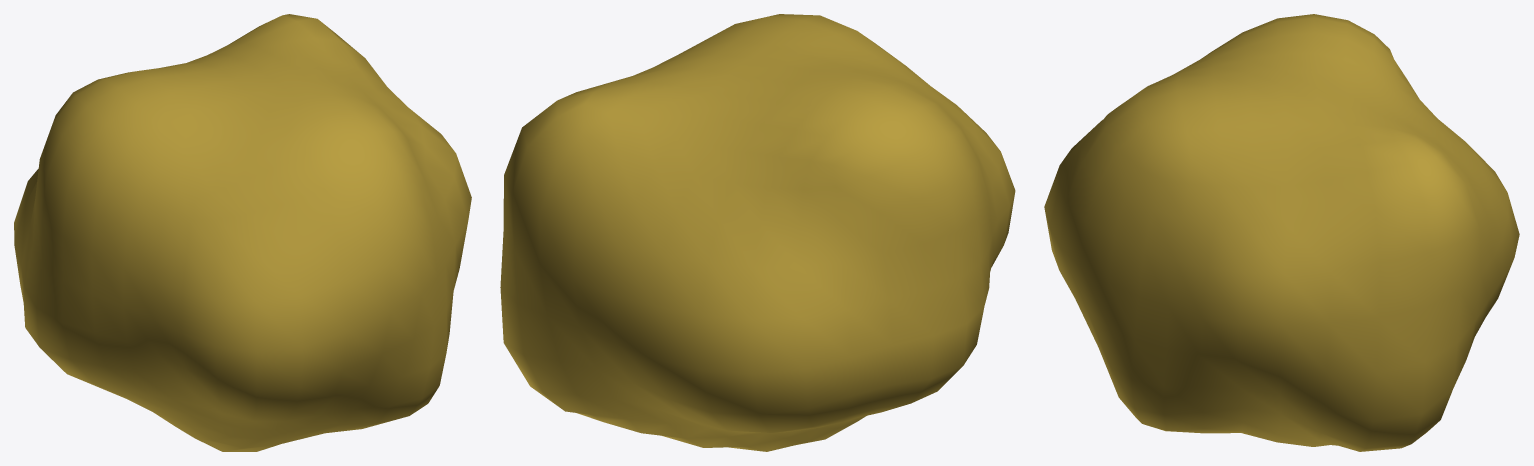
The model's file is CC-CholesterolPlaque.fbx.
3 views of the same model, side by side, from view 1: azimuth 30°, elevation 25°; view 2: azimuth 150°, elevation 25°; view 3: azimuth 270°, elevation 25° (orthographic). The views are drawn at different scales.
Parts seen in each view (by area): view 1: CholesterolPlaquePiece; view 2: CholesterolPlaquePiece; view 3: CholesterolPlaquePiece.
Boxes of the visible parts, box(x1,y1,x2,y2) form: CholesterolPlaquePiece: box(14, 14, 471, 451); CholesterolPlaquePiece: box(500, 14, 1015, 451); CholesterolPlaquePiece: box(1044, 14, 1519, 451).
Size of the model in its own units: 218 by 188 by 224.
